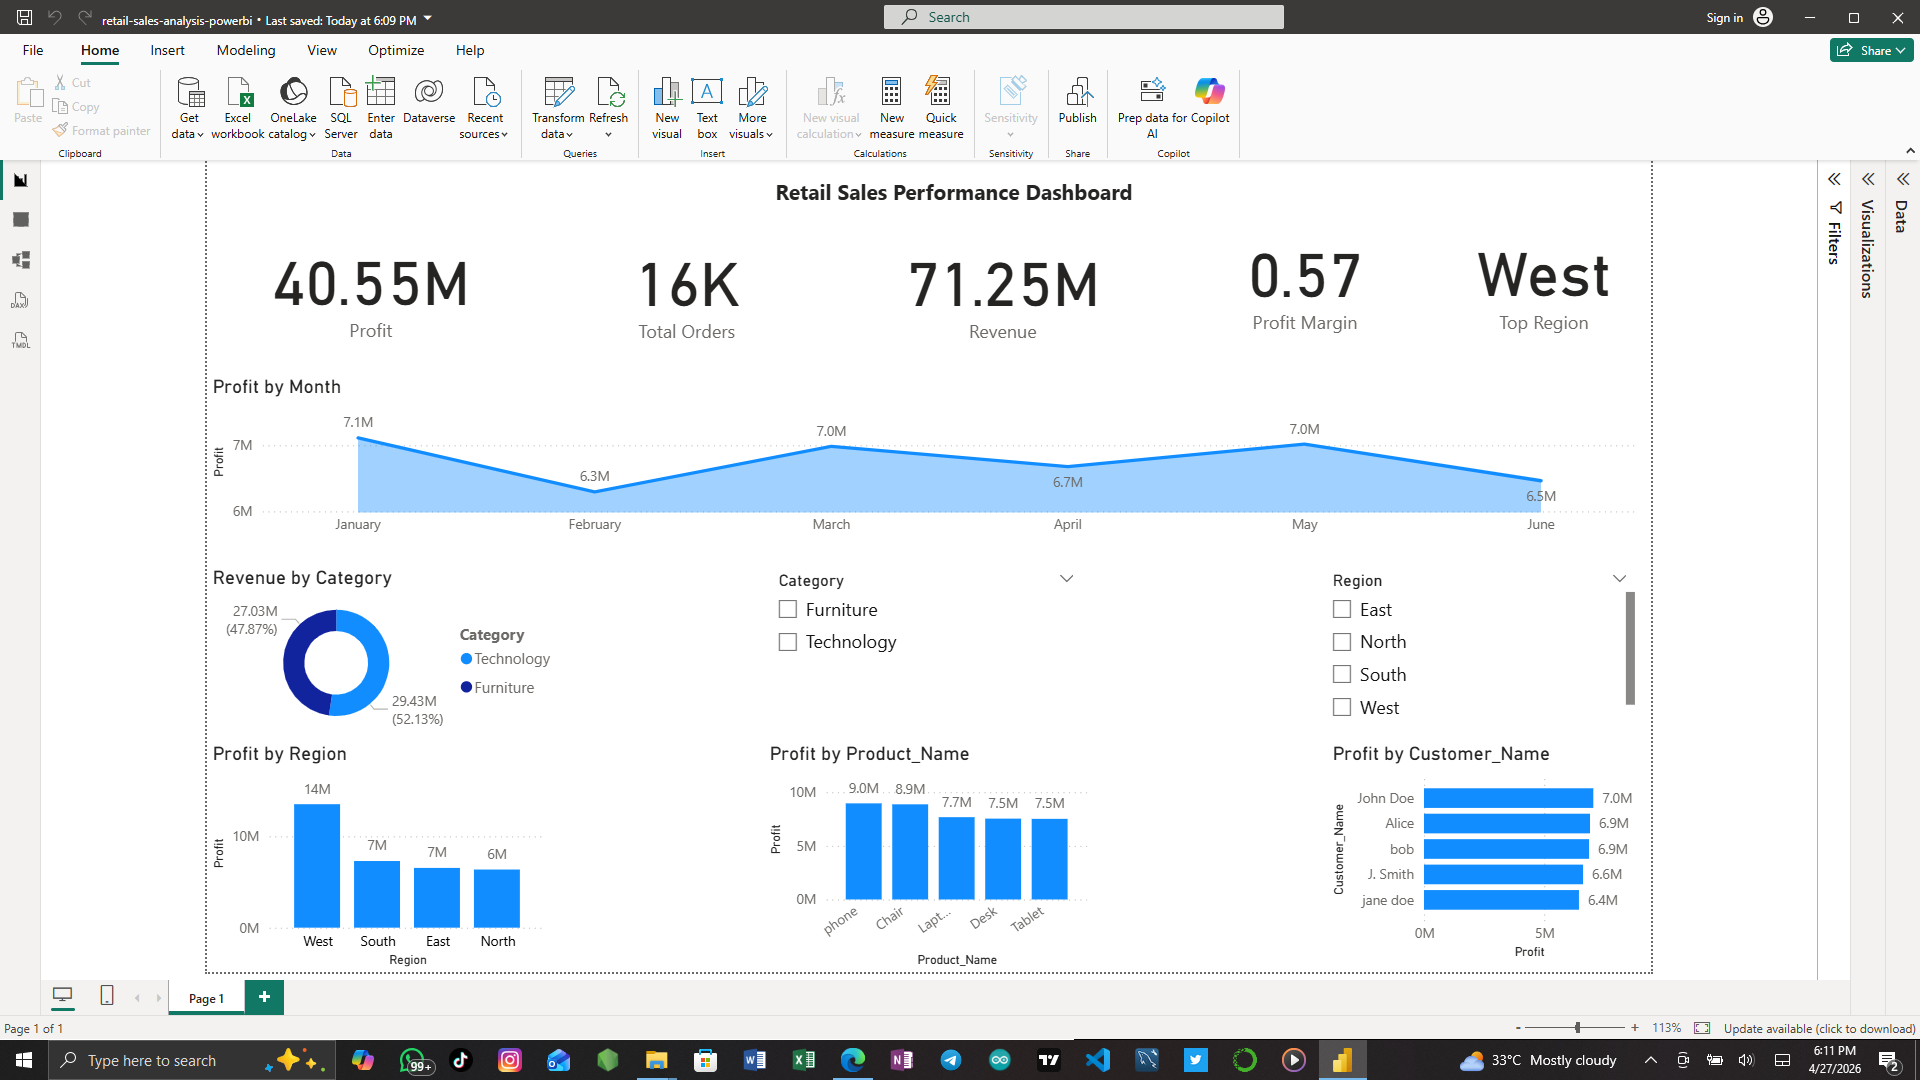

What the dashboard file says about the page in this screenshot:
{"tool":"powerbi","page":{"name":"Page 1","canvas":[1280,720],"ordinal":0},"visuals":[{"type":"card","fields":{"Values":["customers_clean.Profit"]},"box":[5.5,57.3,280,110],"z":0},{"type":"card","fields":{"Values":["customers_clean.Revenue"]},"box":[565.5,58.2,280,110],"z":1000},{"type":"card","fields":{"Values":["customers_clean.Total Orders"]},"box":[285.5,58.2,280,110],"z":2000},{"type":"areaChart","fields":{"Category":["orders_clean.Order_Date.Variation.Date Hierarchy.Month"],"Y":["customers_clean.Profit"]},"box":[0,190.9,1271.8,150.9],"z":3000},{"type":"donutChart","fields":{"Category":["products_clean.Category"],"Y":["customers_clean.Revenue"]},"box":[0,360,319.1,152.7],"z":4000},{"type":"columnChart","fields":{"Y":["customers_clean.Profit"],"Category":["customers_clean.Region"]},"box":[0,516.4,305.5,203.6],"z":5000},{"type":"columnChart","fields":{"Y":["customers_clean.Profit"],"Category":["products_clean.Product_Name"]},"box":[493.6,516.4,291.8,203.6],"z":6000},{"type":"barChart","fields":{"Category":["customers_clean.Customer_Name"],"Y":["customers_clean.Profit"]},"box":[992.7,516.4,287.3,196.4],"z":7000},{"type":"slicer","fields":{"Values":["products_clean.Category"]},"box":[493.6,360,287.3,152.7],"z":8000},{"type":"slicer","fields":{"Values":["customers_clean.Region"]},"box":[985.5,360,286.4,140],"z":9000},{"type":"card","title":"Profit Margin","fields":{"Values":["customers_clean.Profit Margin"]},"box":[847.3,50.9,251.8,110],"z":10000},{"type":"textbox","box":[480,10.9,365.5,46.4],"z":11000},{"type":"card","fields":{"Values":["customers_clean.Top Region"]},"box":[1099.5,50.5,172,110],"z":12000}]}

Visuals, with their boxes on the page's 1280x720 design canvas (x1, y1, x2, y2). These are canvas units, not pixel positions in the 1920x1080 screenshot, which may show the page scaled, cropped or inside an application window:
card - customers_clean.Profit: 6:57:286:167
card - customers_clean.Revenue: 566:58:846:168
card - customers_clean.Total Orders: 286:58:566:168
areaChart - orders_clean.Order_Date.Variation.Date Hierarchy.Month x customers_clean.Profit: 0:191:1272:342
donutChart - products_clean.Category x customers_clean.Revenue: 0:360:319:513
columnChart - customers_clean.Profit x customers_clean.Region: 0:516:306:720
columnChart - customers_clean.Profit x products_clean.Product_Name: 494:516:785:720
barChart - customers_clean.Customer_Name x customers_clean.Profit: 993:516:1280:713
slicer - products_clean.Category: 494:360:781:513
slicer - customers_clean.Region: 986:360:1272:500
"Profit Margin" card: 847:51:1099:161
textbox: 480:11:846:57
card - customers_clean.Top Region: 1100:50:1272:160
